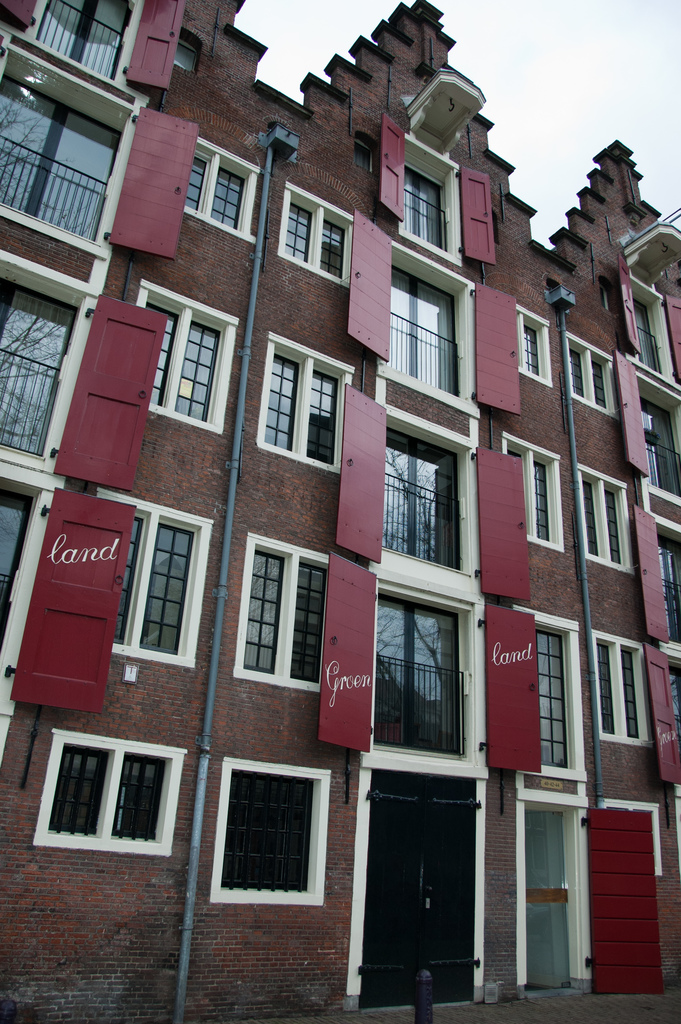door: (371, 778, 419, 1003), (425, 782, 476, 983)
